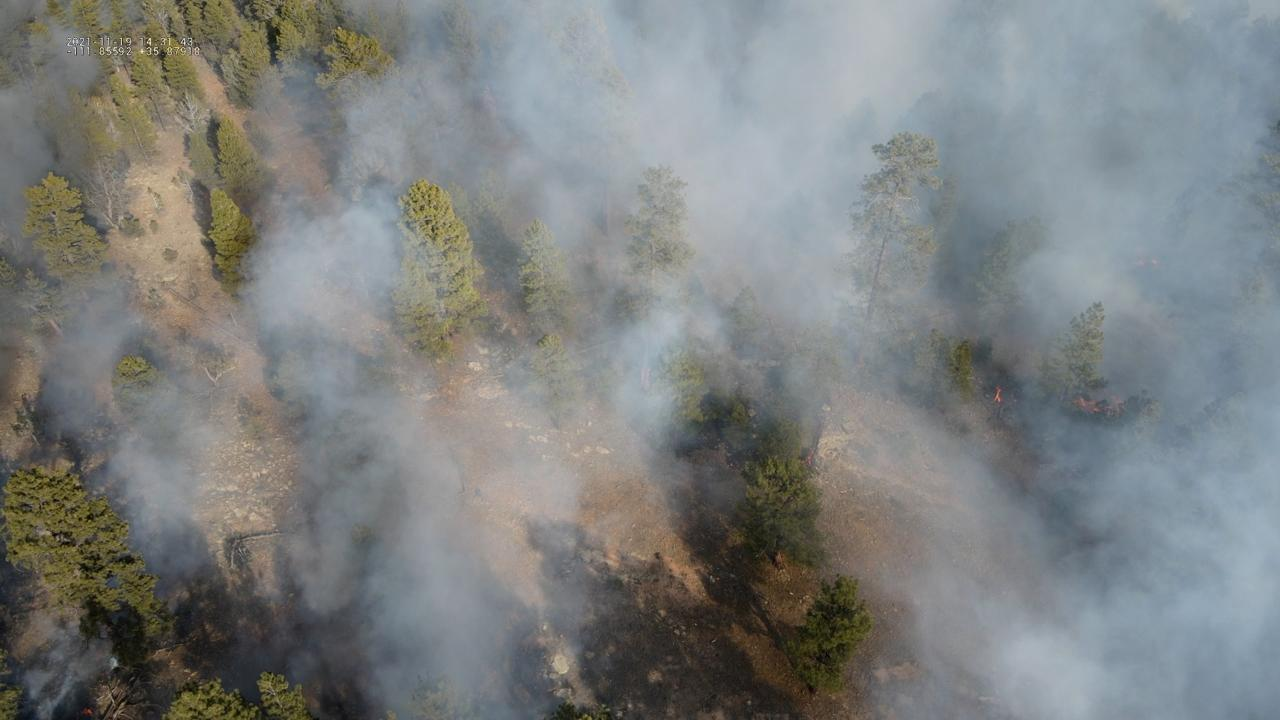fire: (1074, 396, 1104, 420), (992, 386, 1005, 404), (80, 706, 95, 718)
smoke: (0, 0, 1280, 720)
